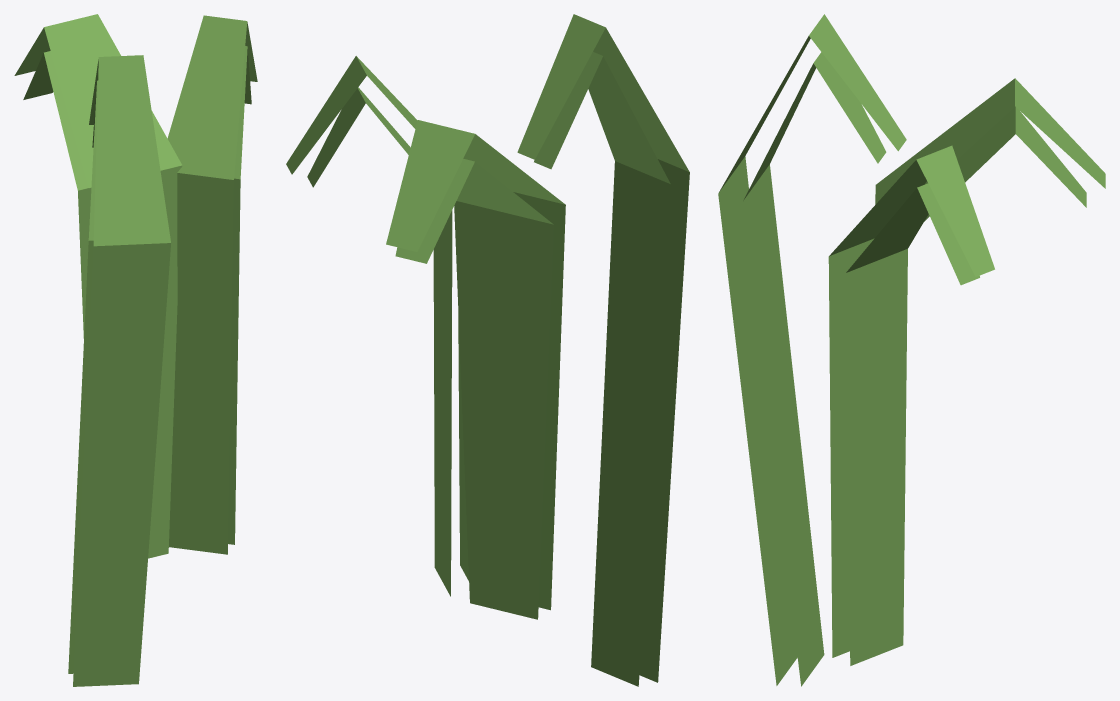
The model's file is Grass01.fbx.
The picture shows the model from 3 angles, left to right: view 1: azimuth 30°, elevation 25°; view 2: azimuth 150°, elevation 25°; view 3: azimuth 270°, elevation 25°; orthographic projection. The views are drawn at different scales.
Visible parts, largest first — view 1: Plane.003; view 2: Plane.003; view 3: Plane.003.
Part boxes in pixels (bbox=[...]): Plane.003: bbox=[14, 14, 257, 686]; Plane.003: bbox=[286, 14, 689, 686]; Plane.003: bbox=[718, 14, 1105, 686].
Bounding box in the file's own units: 46.32 × 100 × 53.22.
